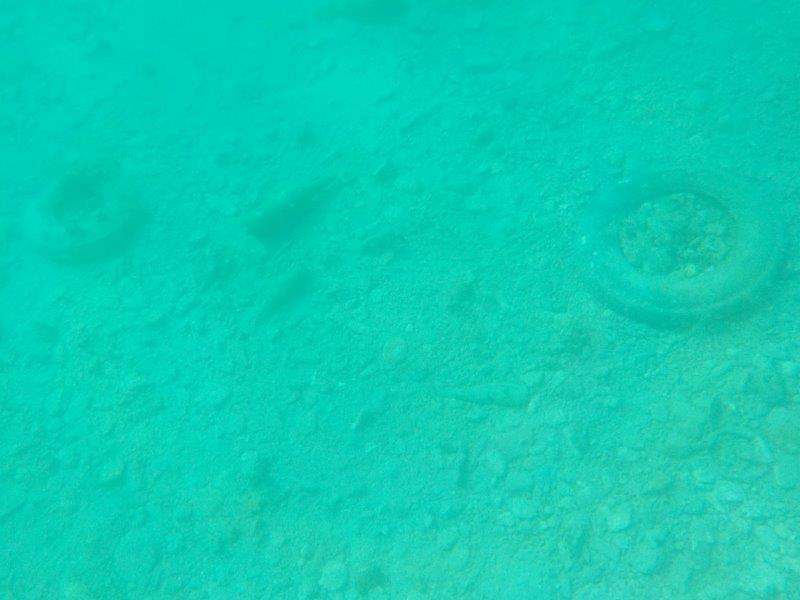bottle: (236, 166, 347, 242), (420, 370, 540, 421), (247, 263, 315, 323)
tire: (566, 148, 796, 348), (18, 159, 152, 271)
